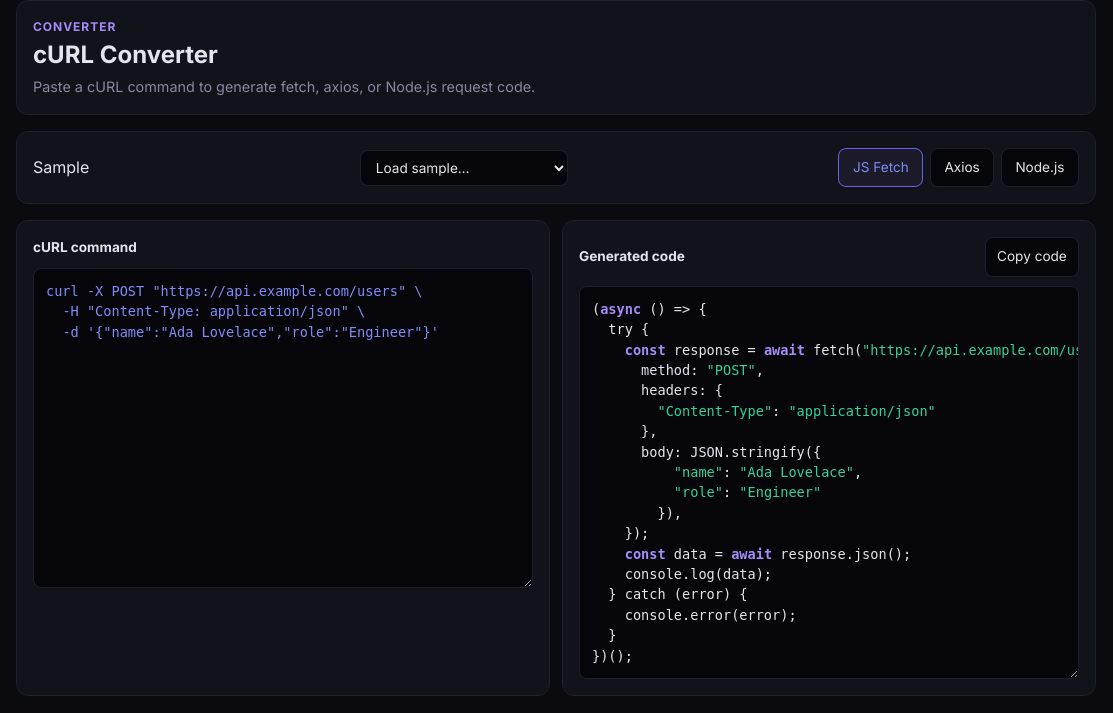
Test: CurlConverterTool › updates the generated code as the cURL input changes
Replace the text in the text box labelled "cURL command" with "curl https://example.com/ping" at coordinates (283, 428), box [33,268,533,588]
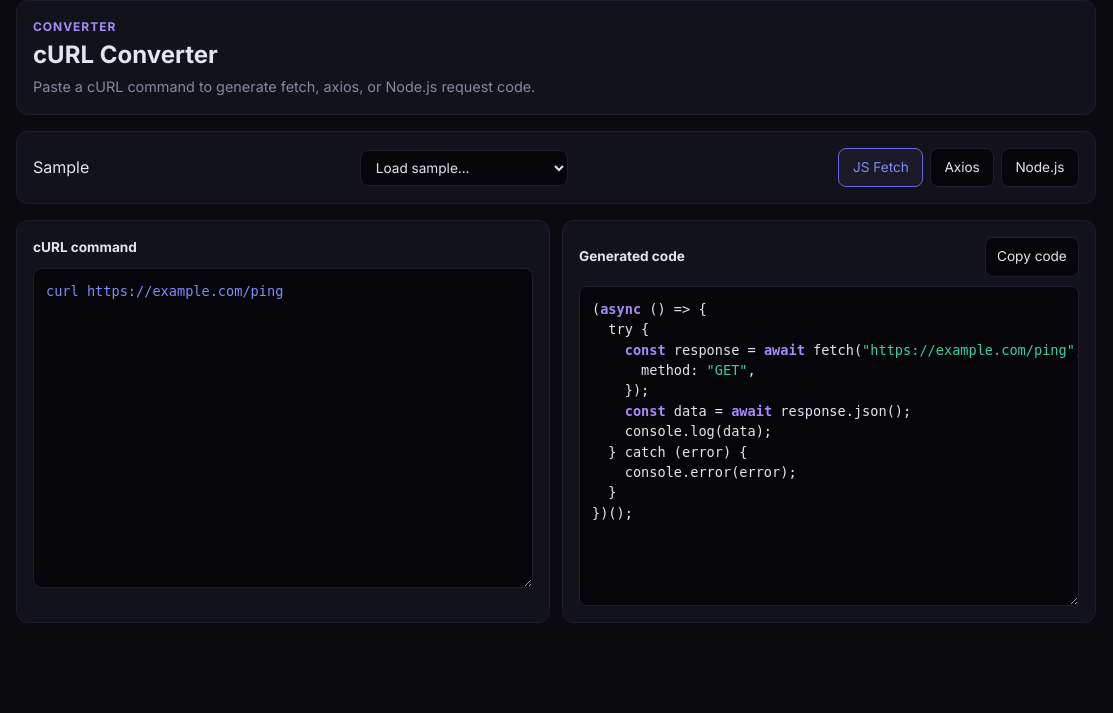
Result: the element named "Generated code output" shows "https://example.com/ping" at [862,342,1075,358]
Result: the element named "Generated code output" shows "GET" at [707,362,748,378]
